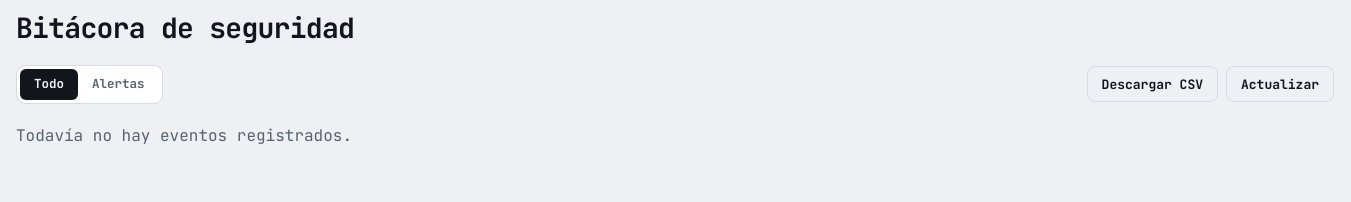
Test: PaginaBitacora › descargar CSV › pide el archivo del filtro activo y lo entrega al navegador
Check: the text "Todavía no hay eventos registrados." is shown, box [16,125,352,146]
Click the button "Alertas": x=118, y=84 [78,69,158,100]
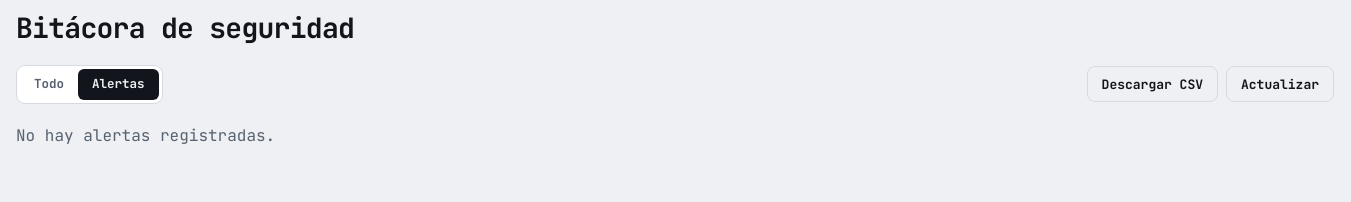
Check: the text "No hay alertas registradas." is shown, box [16,125,275,146]
Click the button "Descargar CSV": x=1152, y=84 [1087,66,1218,102]
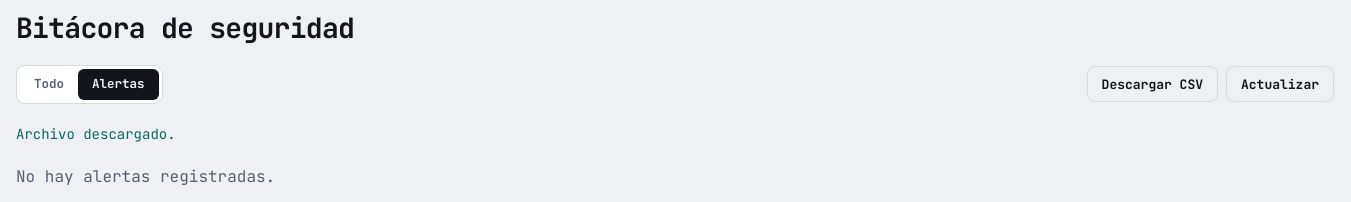
Check: the message reads "Archivo descargado.", box [16,125,176,143]
